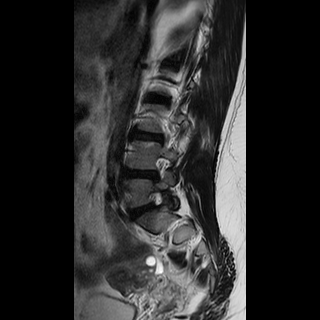RFS0: (147, 148, 175, 185)
RFS1: (141, 185, 169, 218)
